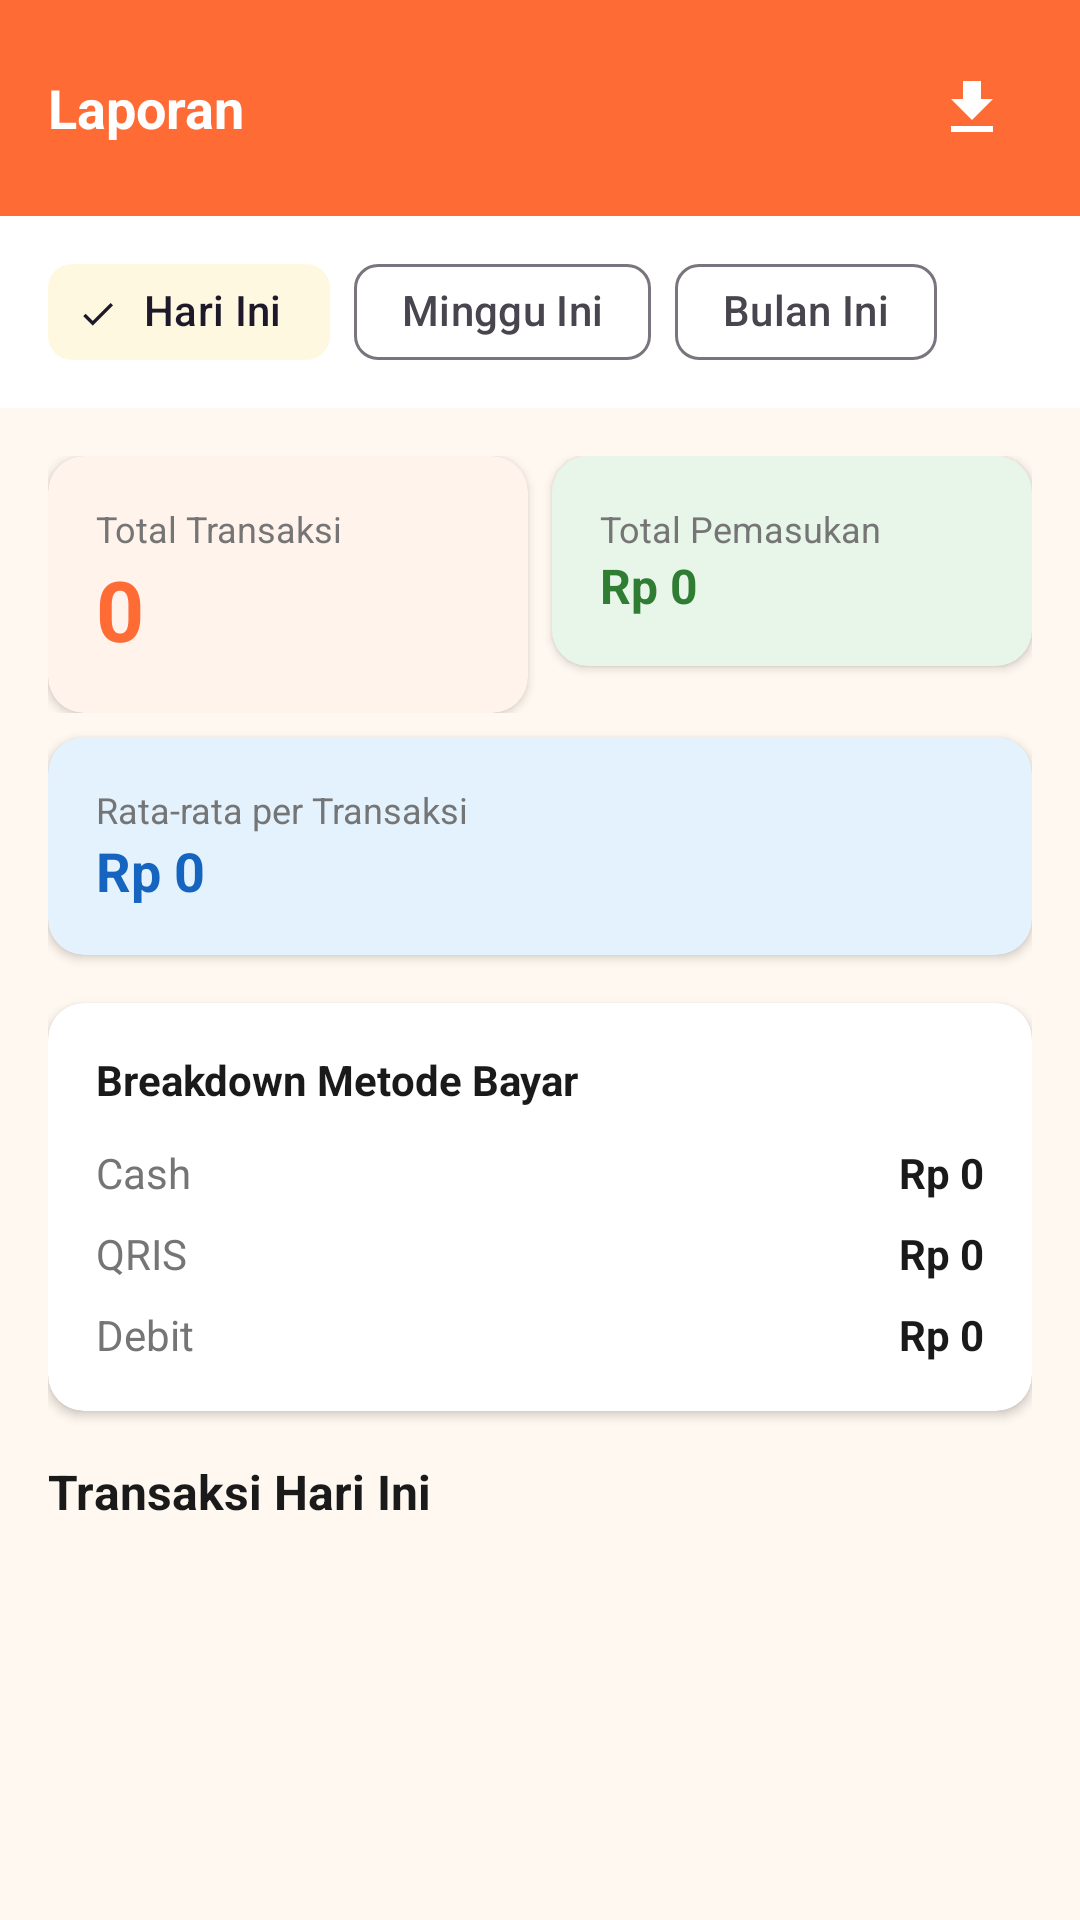

Named icons in this screenshot (1080x1920) and their centers, [x,y]:
Export: [972,106]
